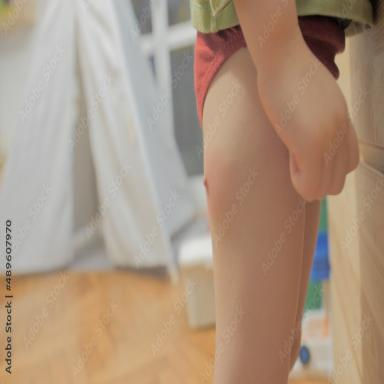Molluscum-Contagiosum: (203, 176, 207, 188)
